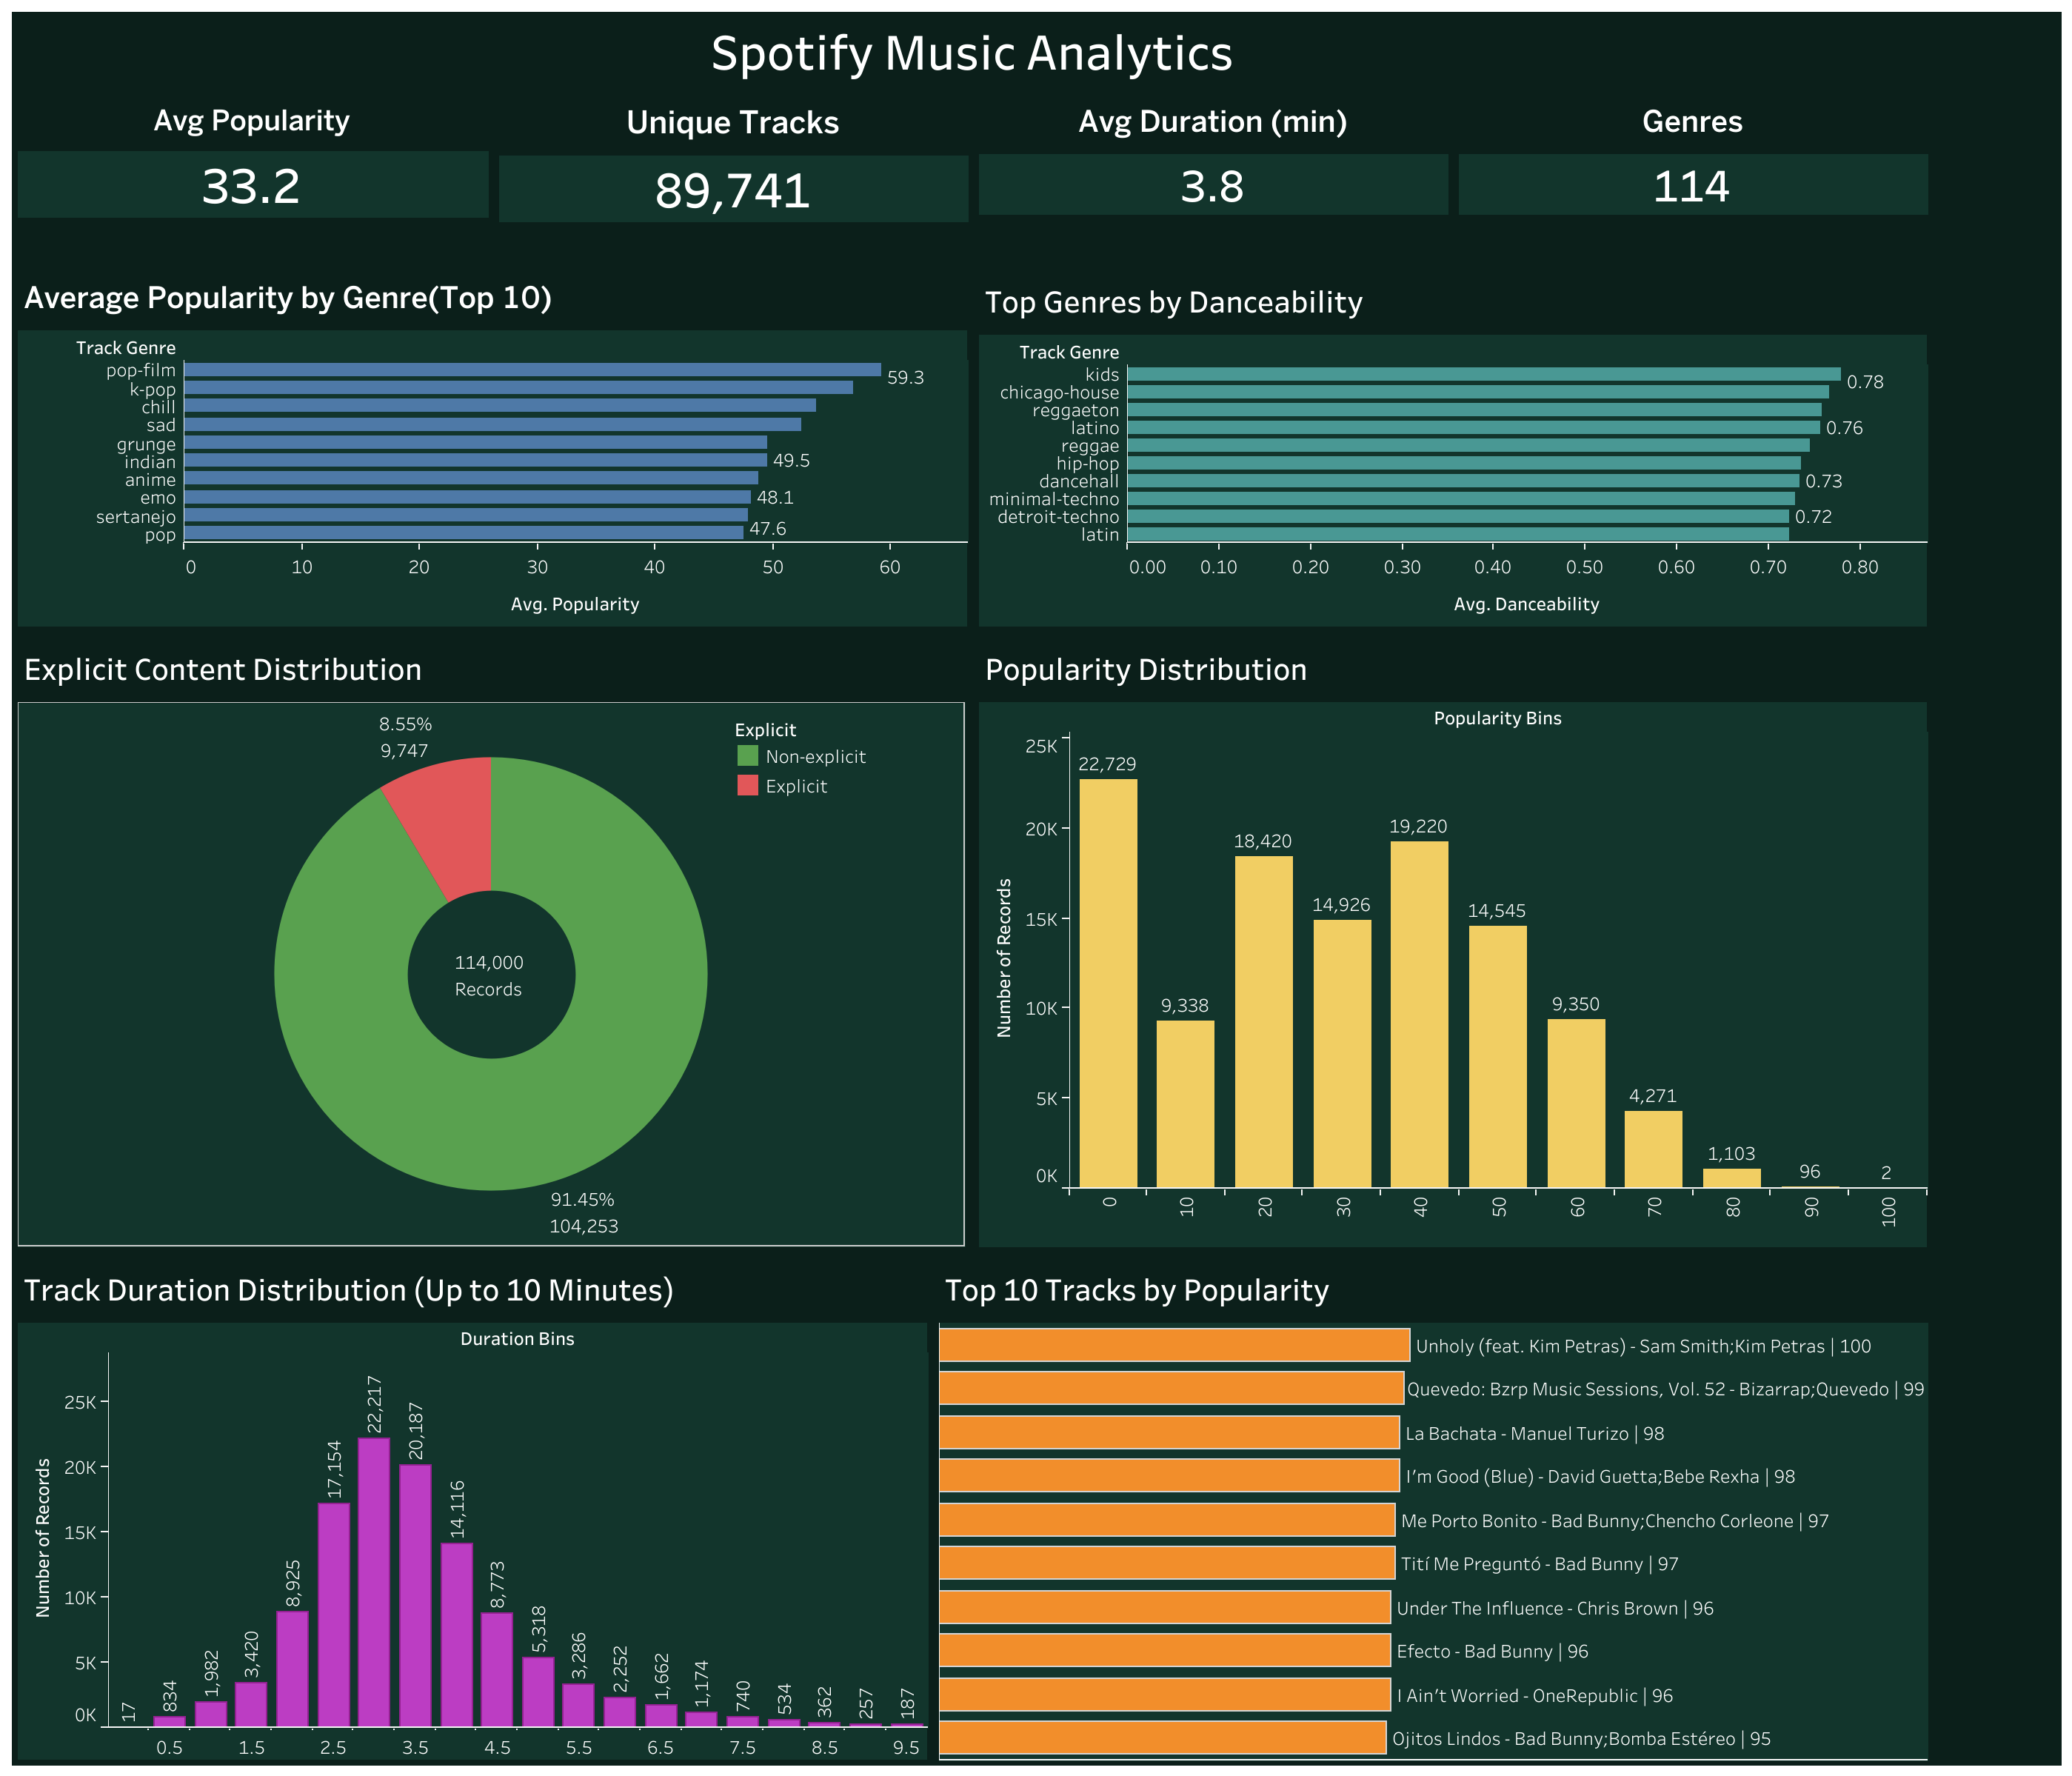

What the dashboard file says about the page in this screenshot:
{"tool":"tableau","page":{"name":"Spotify Music Analytics","canvas":[1400,1200],"ordinal":0},"visuals":[{"type":"title","box":[8,8,1297,52]},{"type":"worksheet","title":"KPI - Avg Popularity","mark":"Automatic","box":[8,60,325,119]},{"type":"worksheet","title":"KPI- UNIQUE TRACKS","mark":"Automatic","box":[333,60,324,119]},{"type":"worksheet","title":"KPI - Average Duration","mark":"Automatic","box":[657,60,324,119]},{"type":"worksheet","title":"KPI - Total Genres","mark":"Automatic","box":[981,60,324,119]},{"type":"worksheet","title":"Top Genres by Popularity","mark":"Automatic","rows":["track_genre"],"cols":["popularity"],"box":[8,178.9,649,248.2]},{"type":"worksheet","title":"Top Genres by Danceability","mark":"Automatic","rows":["track_genre"],"cols":["danceability"],"box":[657,178.9,648,248.2]},{"type":"worksheet","title":"Explicit Content Distribution","mark":"Pie","cols":["Calculation_0109464806559745","Calculation_0109464806641667"],"box":[8,427,648.5,419]},{"type":"worksheet","title":"Popularity Distribution","mark":"Automatic","rows":["dataset.csv_650469EF11F84B748659404155938E4F"],"cols":["Popularity (bin)"],"box":[656.5,427,648.5,419]},{"type":"legend","title":"Explicit Content Distribution","param":"[federated.1ndkedo1rn23211aa10us0sgnaqu].[none:explicit:nk]","box":[495,481,140,58]},{"type":"worksheet","title":"Track Duration Distribution (Up to 10 Minutes)","mark":"Automatic","rows":["dataset.csv_650469EF11F84B748659404155938E4F"],"cols":["Duration Minutes (bin)"],"box":[8,846,622,346]},{"type":"worksheet","title":"Top 10 Tracks by Popularity","mark":"Bar","rows":["track_id"],"cols":["popularity"],"box":[629.9,846,675.1,346]}]}

Visuals, with their boxes in screenshot pixels (x1, y1, x2, y2), scaled from the page's 1400x1200 canvas onto the 2072x1776 screenshot:
title: select_region(12, 12, 1931, 89)
"KPI - Avg Popularity" worksheet: select_region(12, 89, 493, 265)
"KPI- UNIQUE TRACKS" worksheet: select_region(493, 89, 972, 265)
"KPI - Average Duration" worksheet: select_region(972, 89, 1452, 265)
"KPI - Total Genres" worksheet: select_region(1452, 89, 1931, 265)
"Top Genres by Popularity" worksheet: select_region(12, 265, 972, 632)
"Top Genres by Danceability" worksheet: select_region(972, 265, 1931, 632)
"Explicit Content Distribution" worksheet (Pie marks): select_region(12, 632, 972, 1252)
"Popularity Distribution" worksheet: select_region(972, 632, 1931, 1252)
"Explicit Content Distribution" legend: select_region(732, 712, 940, 798)
"Track Duration Distribution (Up to 10 Minutes)" worksheet: select_region(12, 1252, 932, 1764)
"Top 10 Tracks by Popularity" worksheet (Bar marks): select_region(932, 1252, 1931, 1764)
